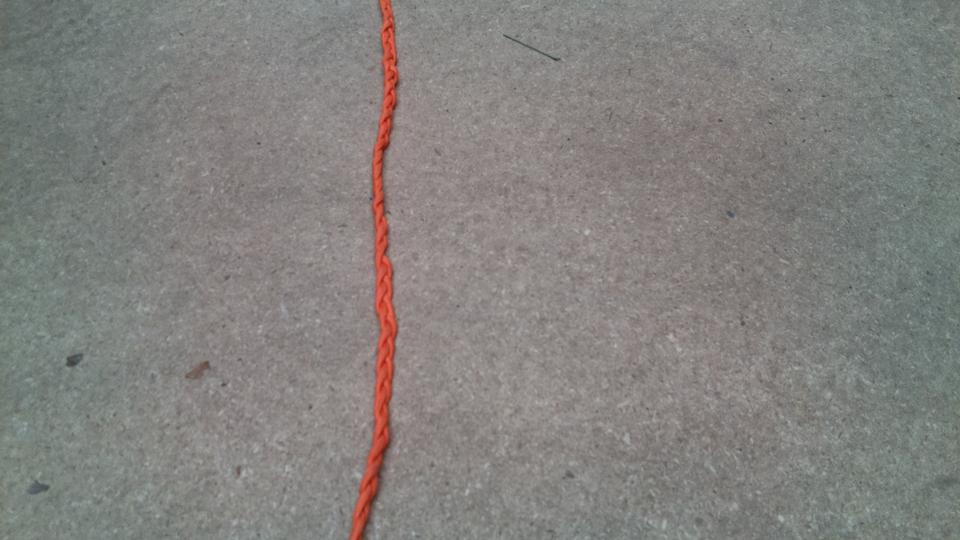rope: (344, 1, 406, 540)
